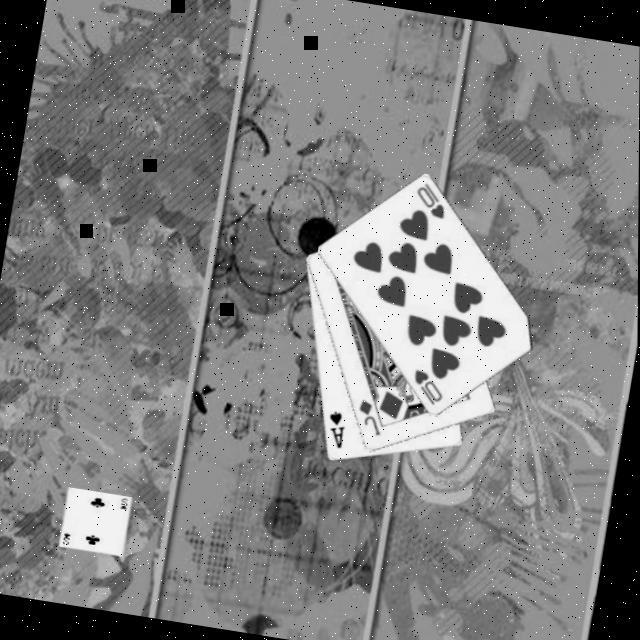10H: (406, 367, 448, 412), (408, 181, 451, 224)
AS: (320, 410, 349, 455)
JD: (350, 398, 387, 442)
